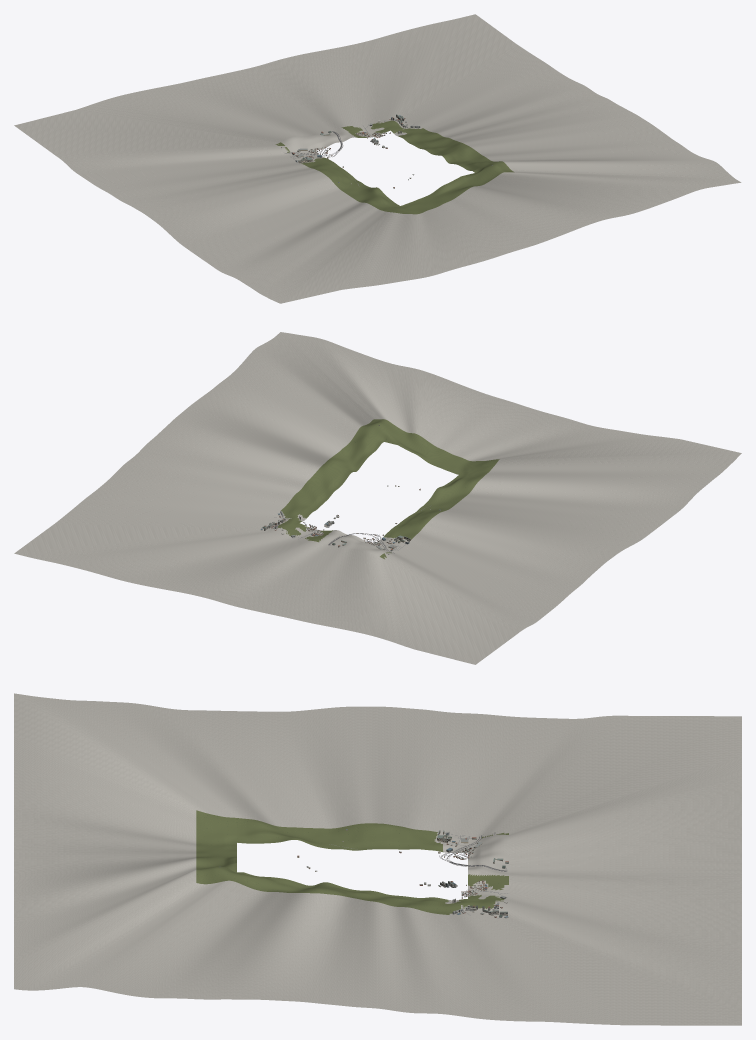
3 renders of one model, top to bottom at view 1: azimuth 30°, elevation 25°; view 2: azimuth 150°, elevation 25°; view 3: azimuth 270°, elevation 25°, orthographic. The views are drawn at different scales.
Parts seen in each view (by area): view 1: ctx-ground; view 2: ctx-ground; view 3: ctx-ground, ctx-buildings.
Part boxes in pixels (left/top/right/bottom): ctx-ground: left=14, top=14, right=741, bottom=303; ctx-ground: left=14, top=332, right=741, bottom=664; ctx-ground: left=14, top=693, right=741, bottom=1025; ctx-buildings: left=297, top=830, right=508, bottom=917.
Size of the model in its own units: 8000 by 532 by 8000.
16 materials, 15 textured.
